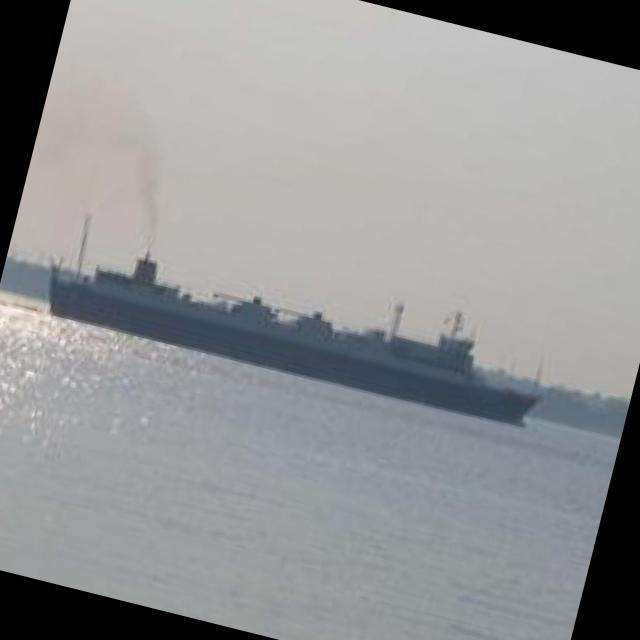boat: (22, 207, 564, 436)
